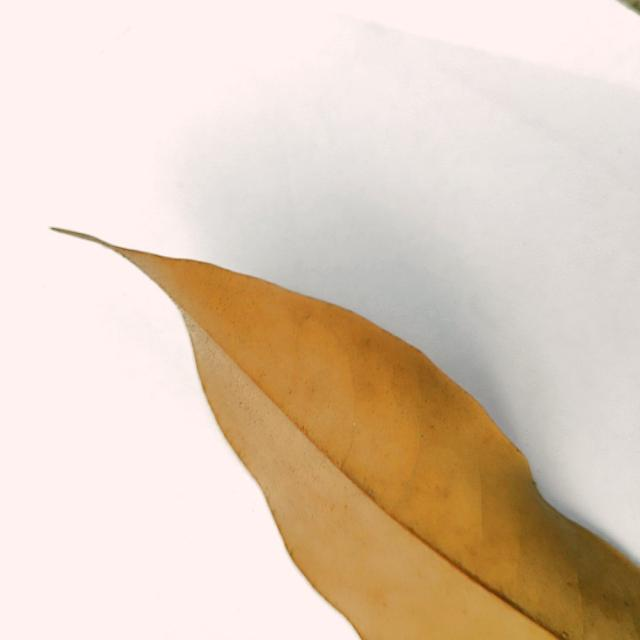Dry_Leaf-Lychee: (52, 226, 639, 639)
